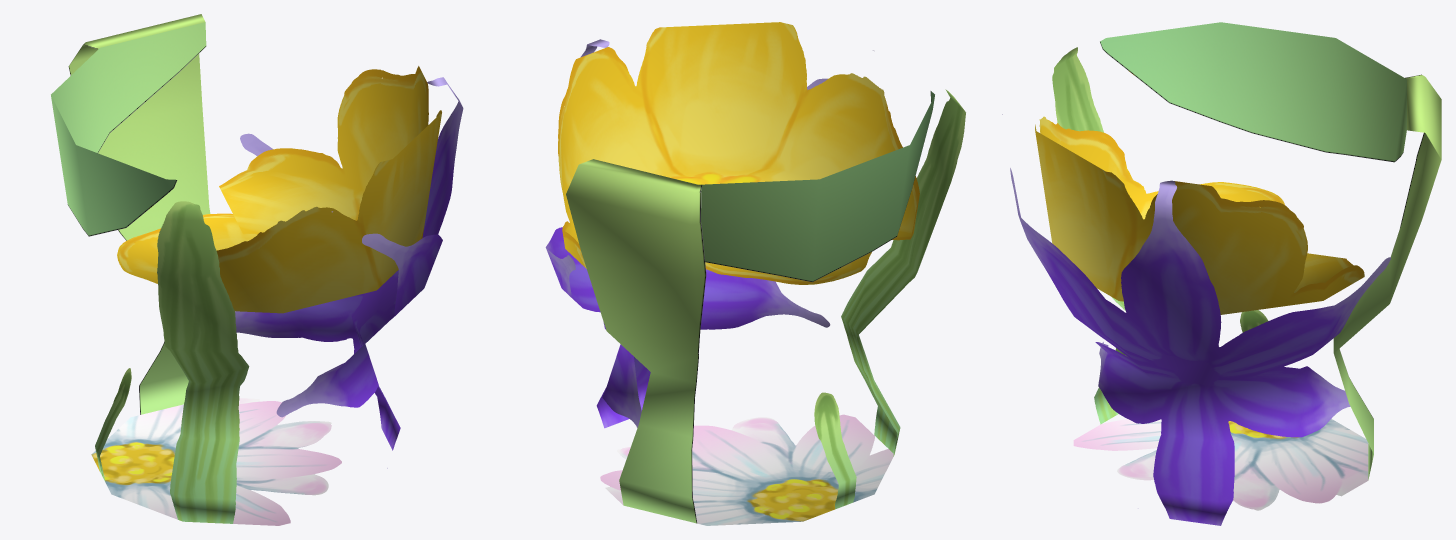
Rendered from Plantpot3.fbx.
3 renders of one model, left to right at view 1: azimuth 30°, elevation 25°; view 2: azimuth 150°, elevation 25°; view 3: azimuth 270°, elevation 25°, orthographic.
Visible parts, largest first — view 1: pCylinder9; view 2: pCylinder9; view 3: pCylinder9.
Boxes of the visible parts, x1,y1,x2,y2 form: pCylinder9: (51,14,463,525); pCylinder9: (545,22,965,525); pCylinder9: (1002,22,1441,525).
Size of the model in its own units: 28.12 by 23.78 by 26.74.
